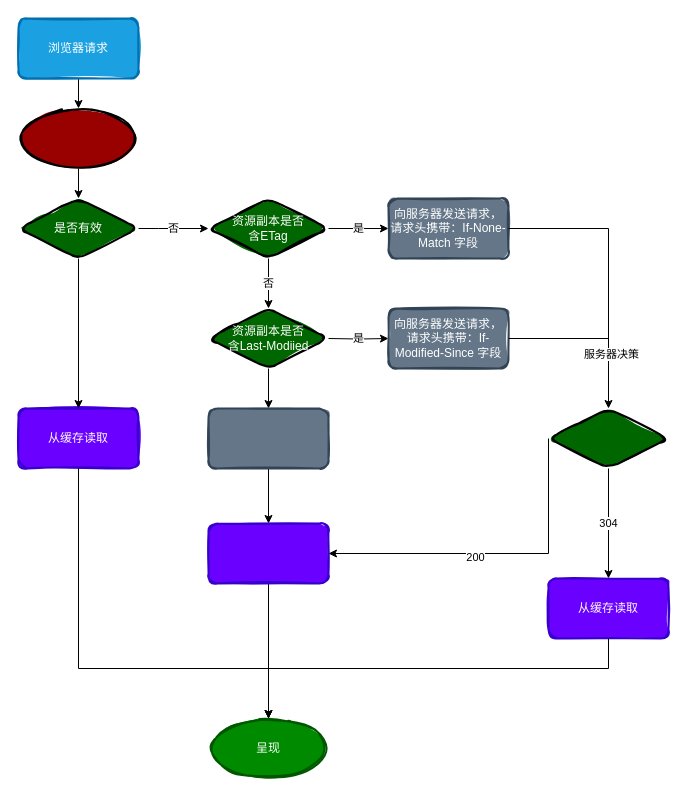
Image size: 686x796. Some labels were removed from this diagram. Here are the shapes that lost their labels. From the top down, the centre of each, then its label:
(x=78, y=138): 有缓存
(x=268, y=438): 向web服务器请求
(x=608, y=438): 响应码 200 / 304 ？
(x=268, y=553): 请求响应，缓存协商
